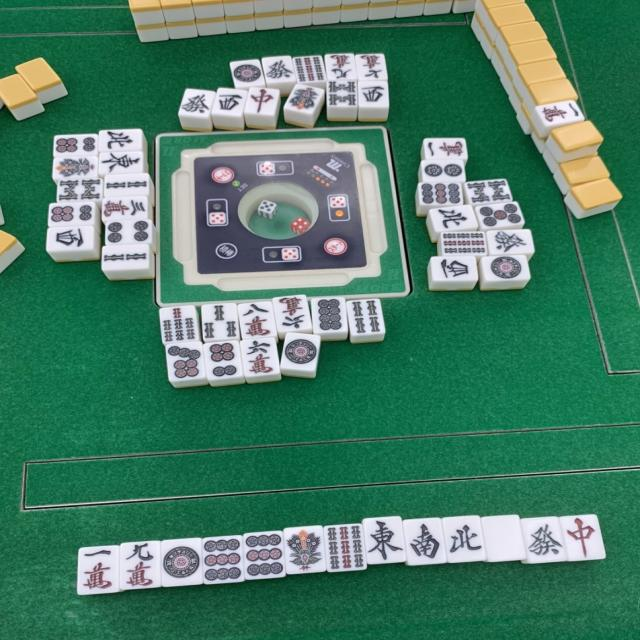bamboos_1: (281, 525, 327, 575)
bamboos_9: (322, 524, 368, 572)
characters_1: (78, 543, 120, 595)
characters_9: (120, 539, 162, 589)
circles_1: (160, 536, 203, 587)
circles_9: (199, 534, 247, 584), (242, 531, 286, 579)
east: (358, 515, 406, 565)
green: (518, 514, 568, 564)
north: (443, 515, 487, 564)
red: (559, 515, 606, 560)
south: (401, 517, 448, 566)
white: (479, 514, 529, 563)
